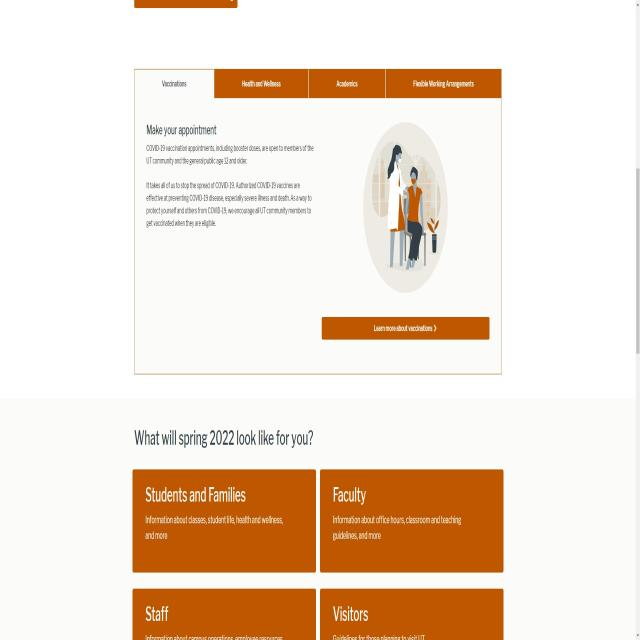content: (143, 118, 315, 240)
tab-bar: (126, 52, 504, 110)
